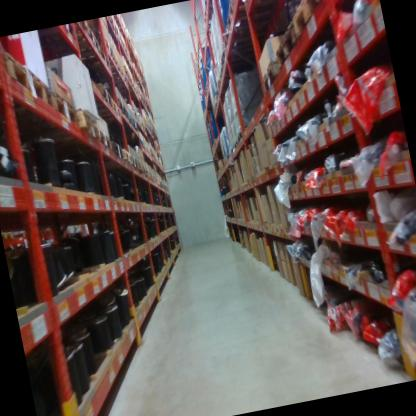pallet: (0, 37, 54, 116), (289, 0, 351, 49), (221, 0, 293, 35), (268, 19, 305, 81), (223, 18, 278, 51), (217, 36, 268, 70), (67, 43, 112, 77), (51, 83, 81, 129), (257, 56, 285, 105), (74, 107, 103, 147), (61, 26, 101, 54), (83, 78, 113, 110), (0, 36, 18, 84), (94, 94, 122, 123), (105, 132, 124, 160), (116, 142, 134, 168), (96, 124, 112, 152), (125, 148, 141, 172), (217, 64, 234, 81), (67, 21, 89, 33), (235, 127, 252, 142), (135, 160, 145, 175), (203, 79, 214, 92), (214, 78, 223, 92), (233, 140, 240, 152)
